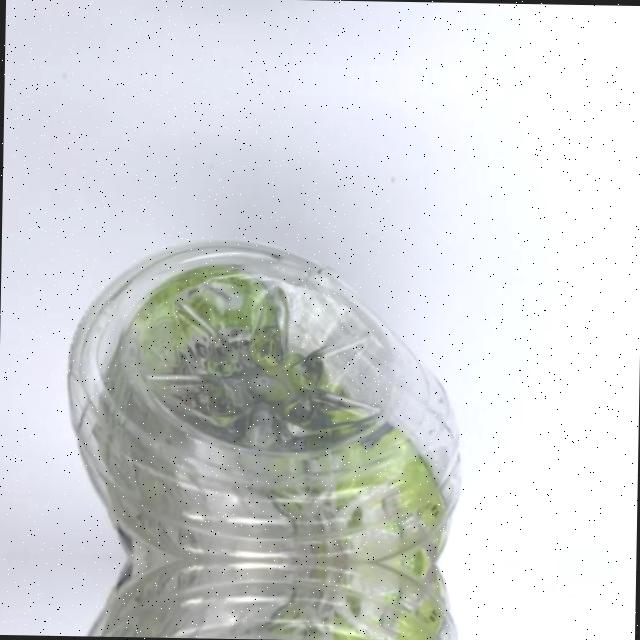Plastic: (31, 219, 503, 563), (29, 555, 496, 640)
